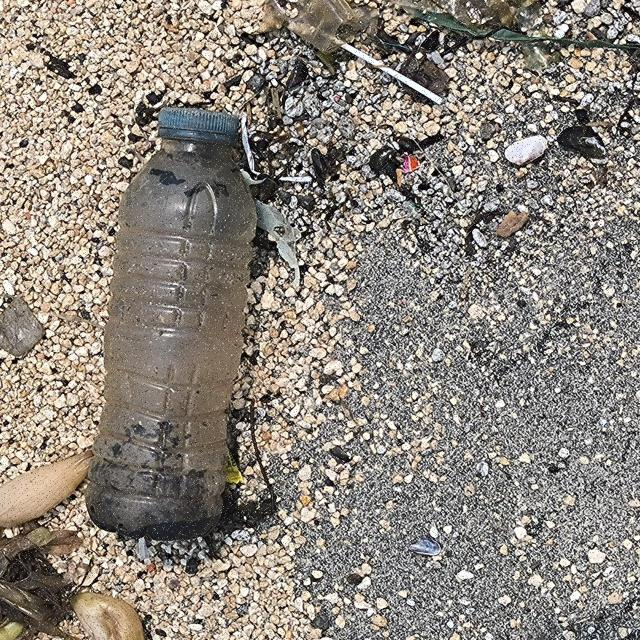plastic_waste: (80, 105, 263, 539), (333, 36, 445, 106)
